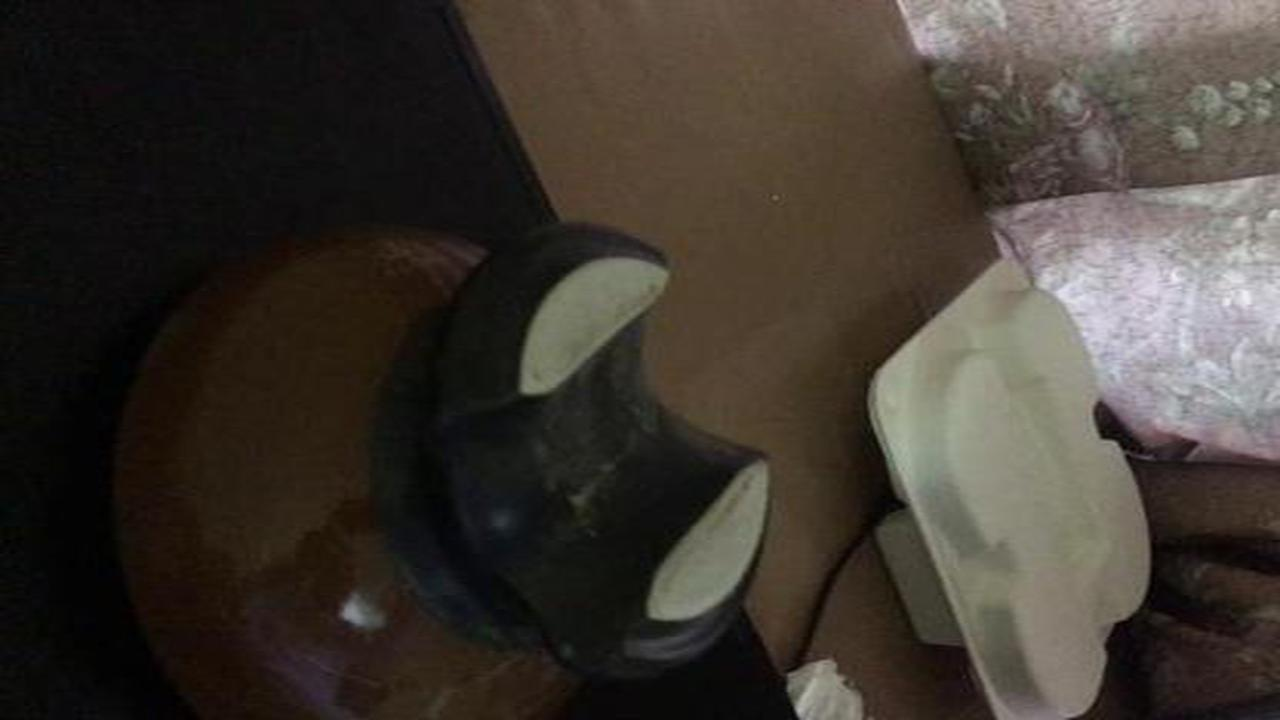insulator_pin: (111, 206, 801, 717)
